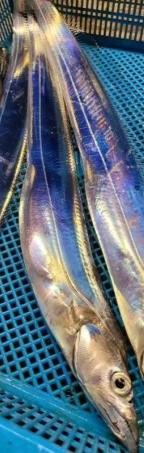fish: (21, 0, 139, 452)
